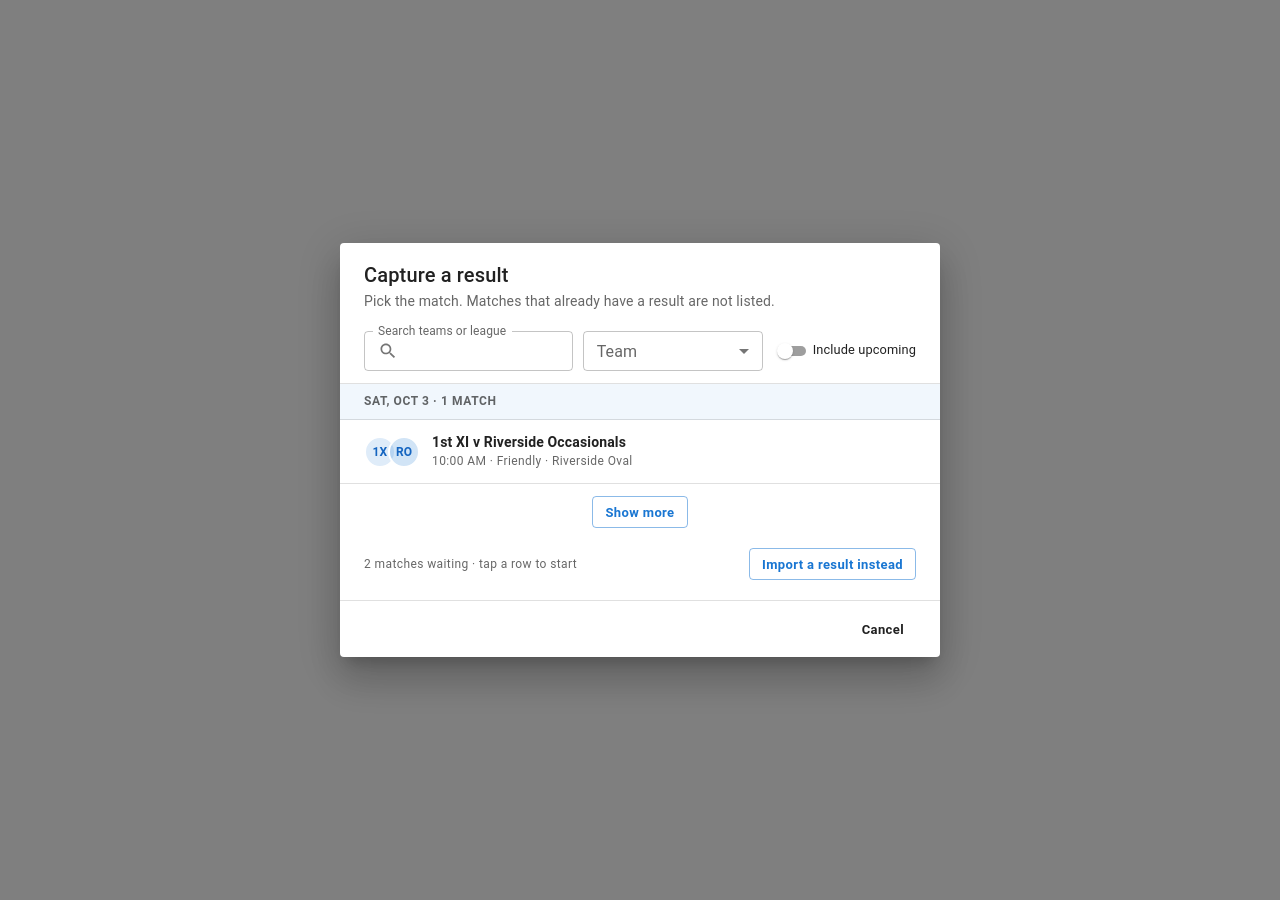
Test: CaptureResultDialog › loads the next page on Show more
Step 1. Click the button "Show more" → (640, 512), box [592, 496, 688, 528]
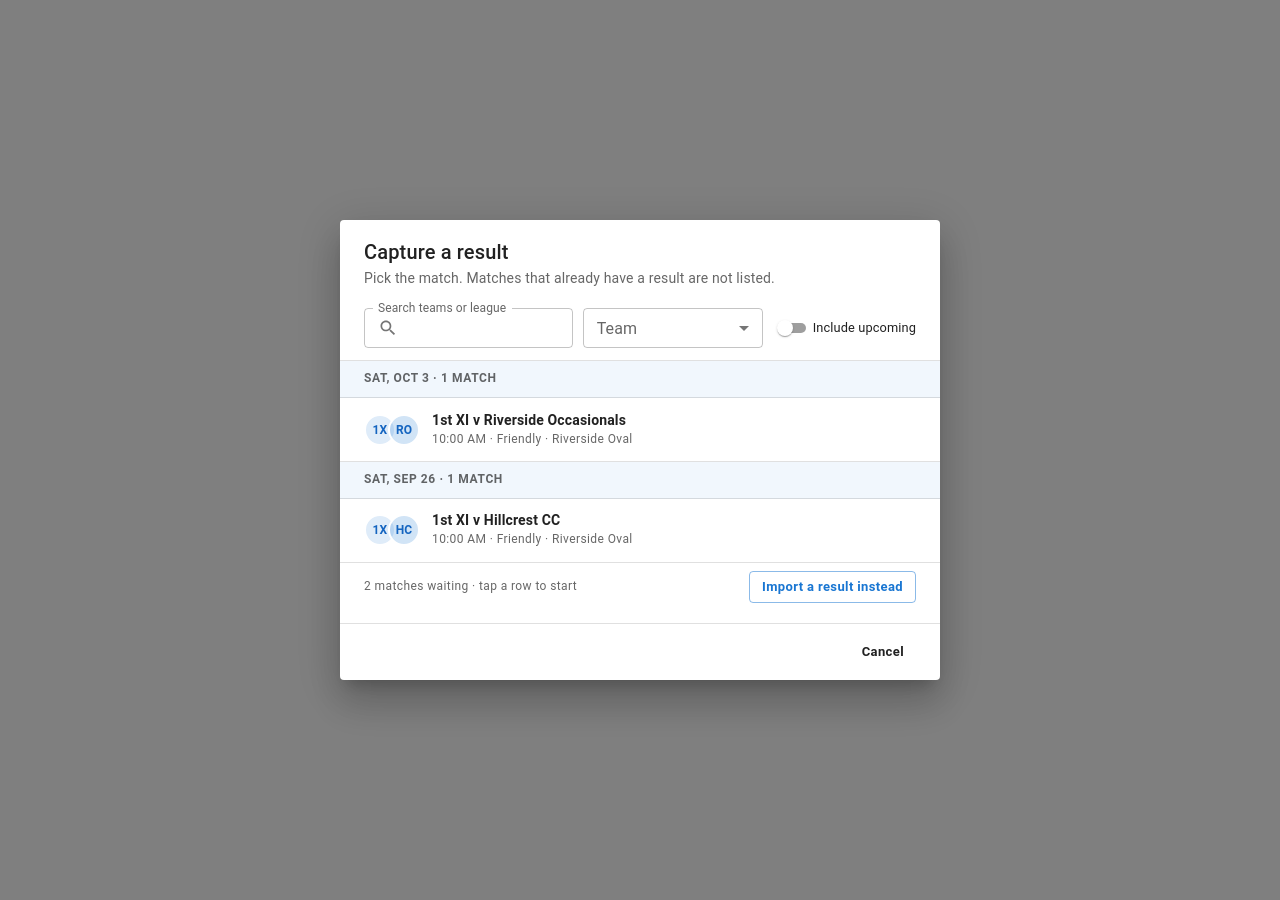
Check: the number of buttons with test id "awaiting-match" is 2, box [340, 398, 940, 462]; [340, 499, 940, 563]
Check: the button "Show more" is gone
